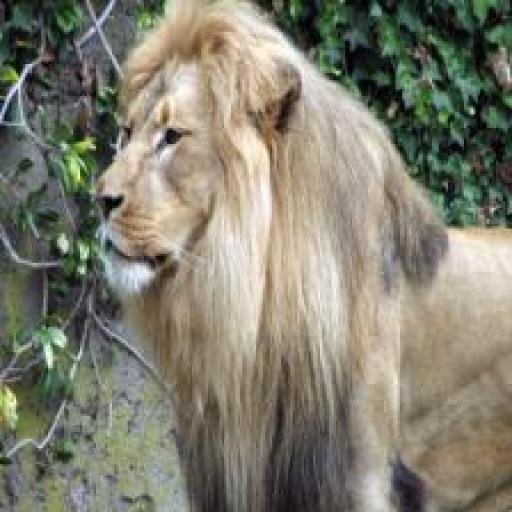lion: (73, 2, 511, 511)
